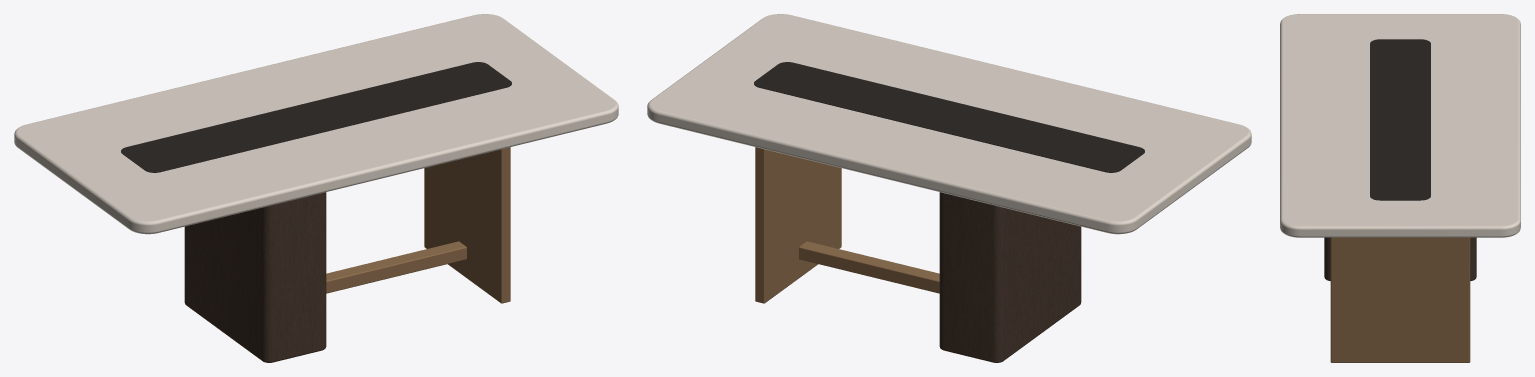
The model's file is tokyo-dining-set--dtable6.glb.
3 renders of one model, left to right at view 1: azimuth 30°, elevation 25°; view 2: azimuth 150°, elevation 25°; view 3: azimuth 270°, elevation 25°, orthographic. The views are drawn at different scales.
Visible parts, largest first — view 1: top, pedestal, inlay, plate, bar; view 2: top, pedestal, inlay, plate, bar; view 3: top, plate, inlay, pedestal.
Boxes of the visible parts, x1,y1,x2,y2 form: top: (14, 14, 618, 234); pedestal: (184, 192, 326, 362); inlay: (121, 62, 511, 172); plate: (424, 147, 510, 303); bar: (326, 241, 466, 293); top: (647, 14, 1251, 234); pedestal: (939, 192, 1081, 362); inlay: (754, 62, 1144, 172); plate: (755, 147, 841, 303); bar: (799, 241, 939, 293); top: (1280, 14, 1520, 237); plate: (1330, 237, 1470, 362); inlay: (1370, 39, 1430, 200); pedestal: (1324, 237, 1476, 280).
Size of the model in its own units: 2 by 0.762 by 0.95.
4 materials, 1 textured.
